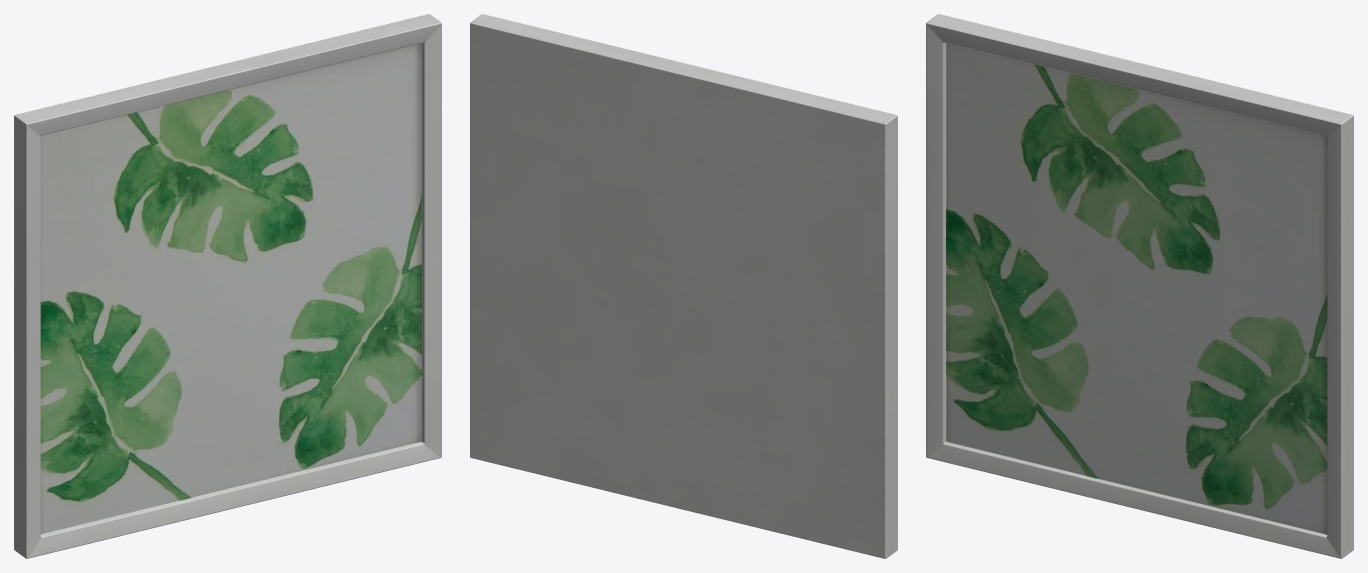
File: abo-B073P66TV1.glb
3 views of the same model, side by side, from view 1: azimuth 30°, elevation 25°; view 2: azimuth 150°, elevation 25°; view 3: azimuth 330°, elevation 25° (orthographic).
Size of the model in its own units: 0.762 by 0.762 by 0.04.
1 material, 1 textured.
